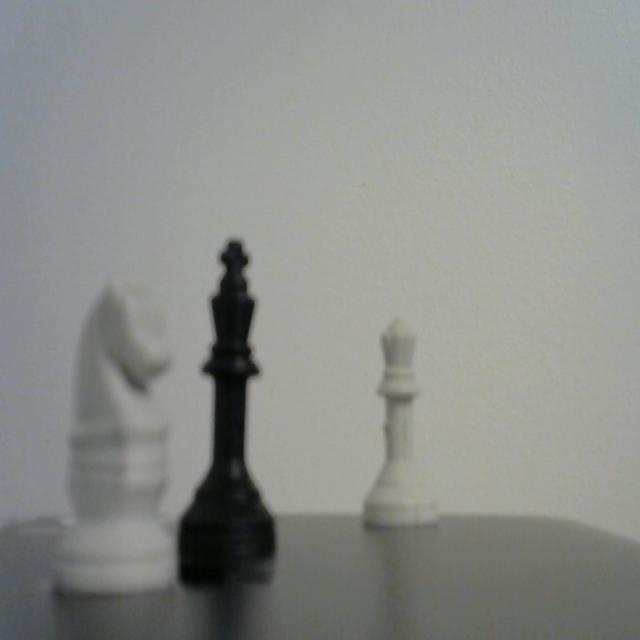black-king: (186, 212, 282, 582)
white-knight: (47, 252, 182, 609)
white-queen: (340, 282, 457, 548)
